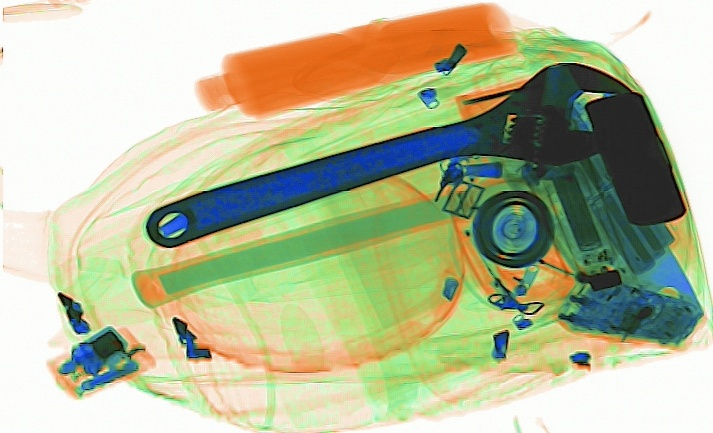powerbank: (529, 115, 678, 279)
